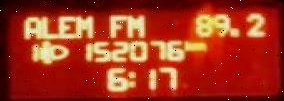-: (229, 27, 240, 37)
0: (127, 39, 147, 61)
1: (146, 65, 156, 90), (82, 40, 92, 64), (29, 41, 35, 64)
2: (242, 11, 266, 36), (111, 39, 127, 61)
5: (92, 39, 109, 61)
6: (104, 66, 127, 90), (165, 37, 184, 60)
7: (157, 65, 177, 89), (147, 37, 166, 60)
8: (194, 13, 210, 37)
9: (210, 11, 229, 36)
X: (107, 12, 126, 38), (21, 14, 41, 38), (125, 13, 144, 37), (57, 14, 74, 38), (76, 13, 92, 38), (41, 14, 57, 38), (192, 40, 207, 51), (127, 69, 136, 86), (184, 37, 192, 50)
